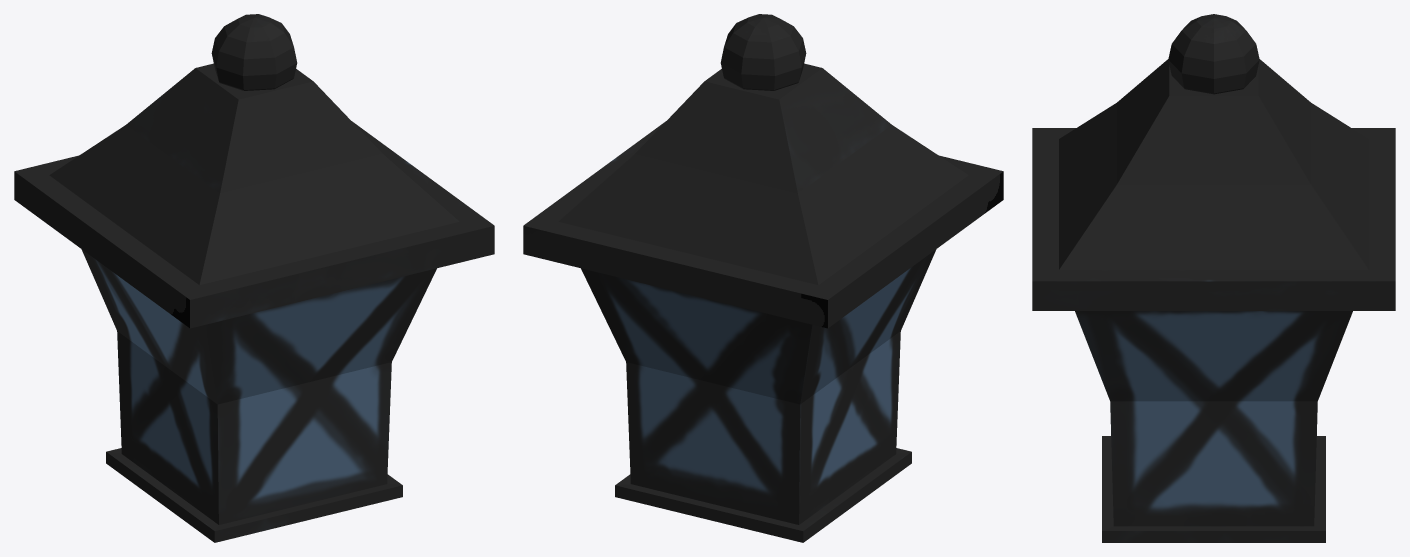
File: lantern.obj
3 views of the same model, side by side, from view 1: azimuth 30°, elevation 25°; view 2: azimuth 150°, elevation 25°; view 3: azimuth 270°, elevation 25° (orthographic). The views are drawn at different scales.
Visible parts, largest first — view 1: Cube; view 2: Cube; view 3: Cube.
Boxes of the visible parts, x1,y1,x2,y2 form: Cube: (14, 14, 494, 542); Cube: (523, 14, 1003, 542); Cube: (1032, 14, 1395, 542).
Bounding box in the file's own units: 2 × 3.01 × 2.
1 material, 1 textured.
